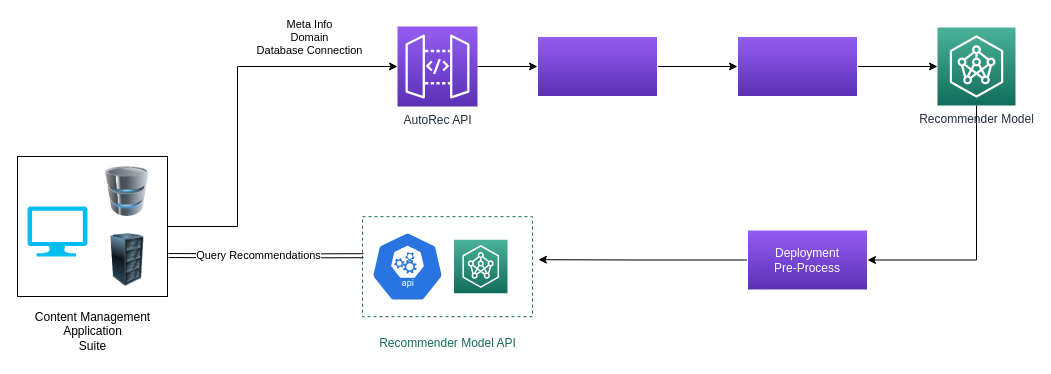
Image size: 1051x374. Some labels were removed from this diagram. Here are the shapes that lost their labels. From the top down, the centre of each, then its label:
At pixel 597 66: "Train Model".
At pixel 797 66: "Evaluate Model".
